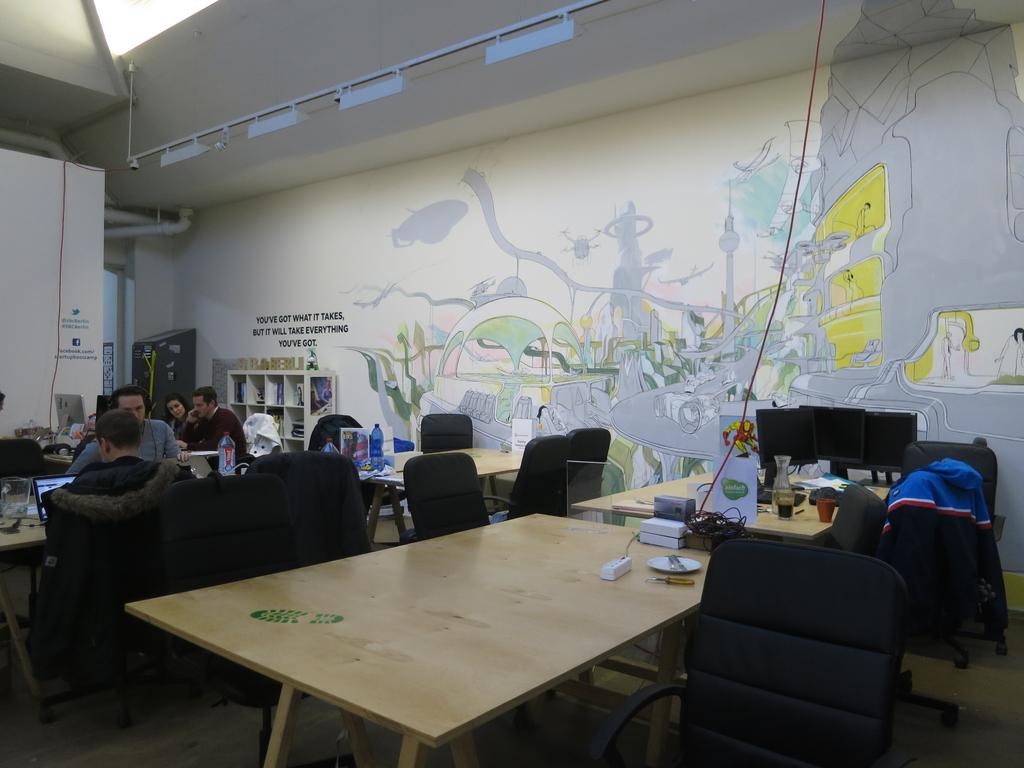Chair: (680, 532, 918, 767), (30, 473, 247, 721), (152, 475, 289, 698), (895, 447, 1009, 673), (244, 439, 374, 581), (397, 454, 498, 537), (481, 439, 571, 519), (811, 483, 890, 548), (308, 412, 383, 461), (570, 423, 604, 502), (0, 439, 63, 480), (416, 411, 481, 449), (52, 434, 92, 462)
